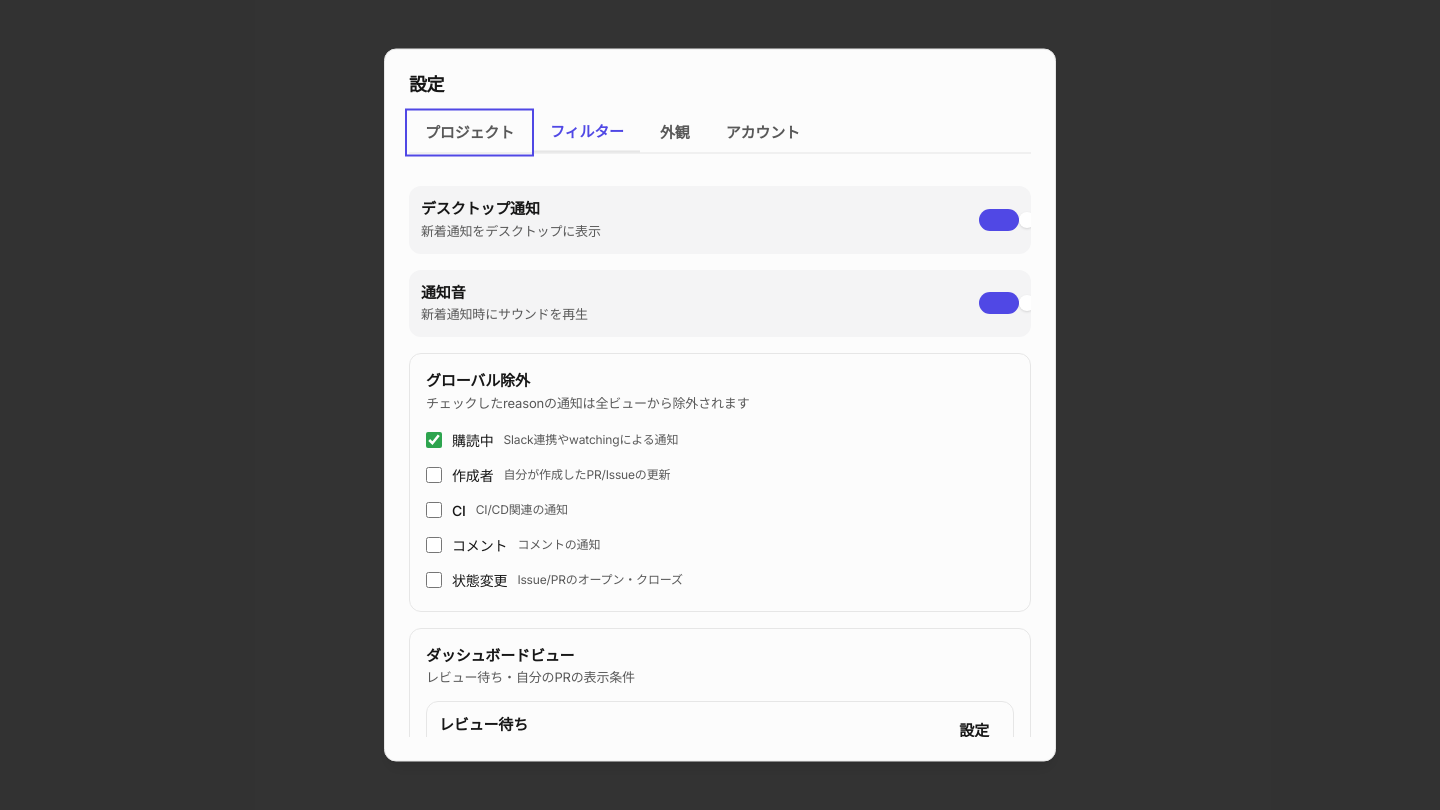
Test: IssueStatusRulesEditor › 空のルールでレンダリング › ルール追加ボタンが表示される
Click the button "設定". click: (974, 731)
box: [947, 713, 1001, 749]
(page scrolled)
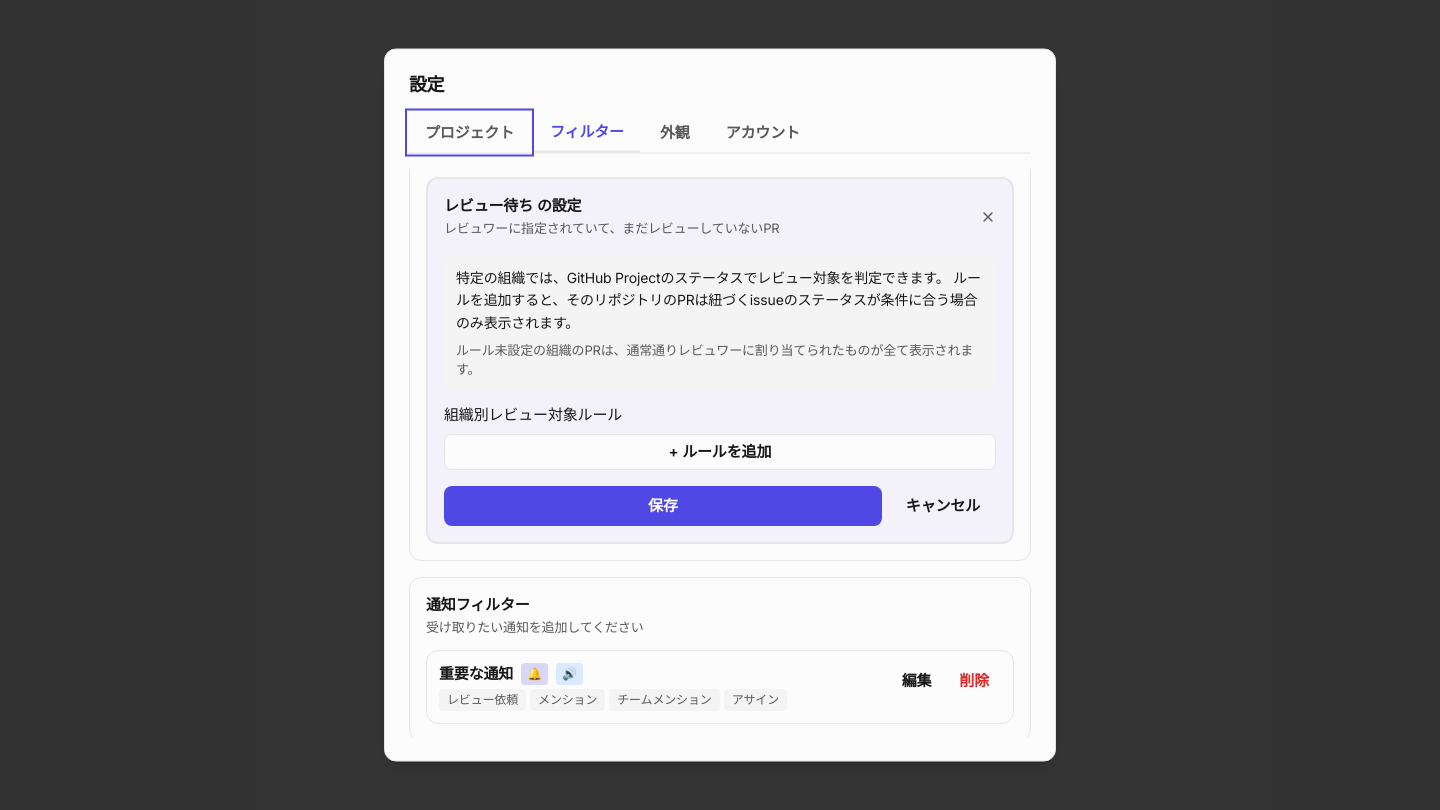
Expected: the button "+ ルールを追加" is shown, [444, 435, 996, 471]
